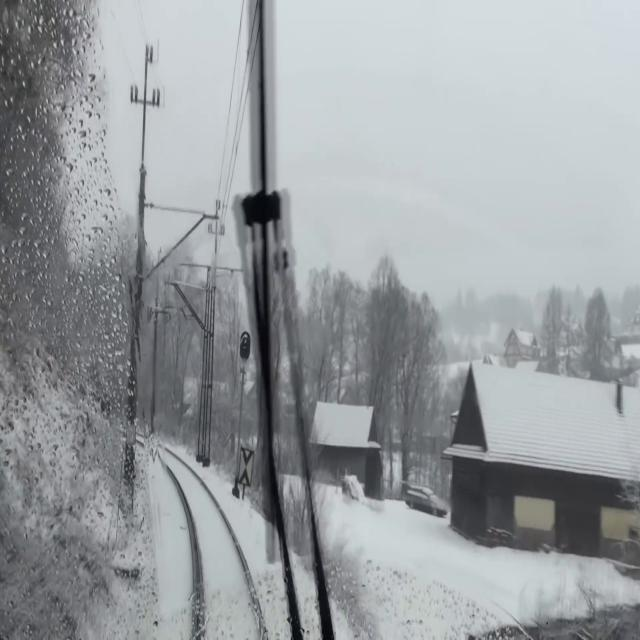rail-track: (161, 451, 259, 639)
